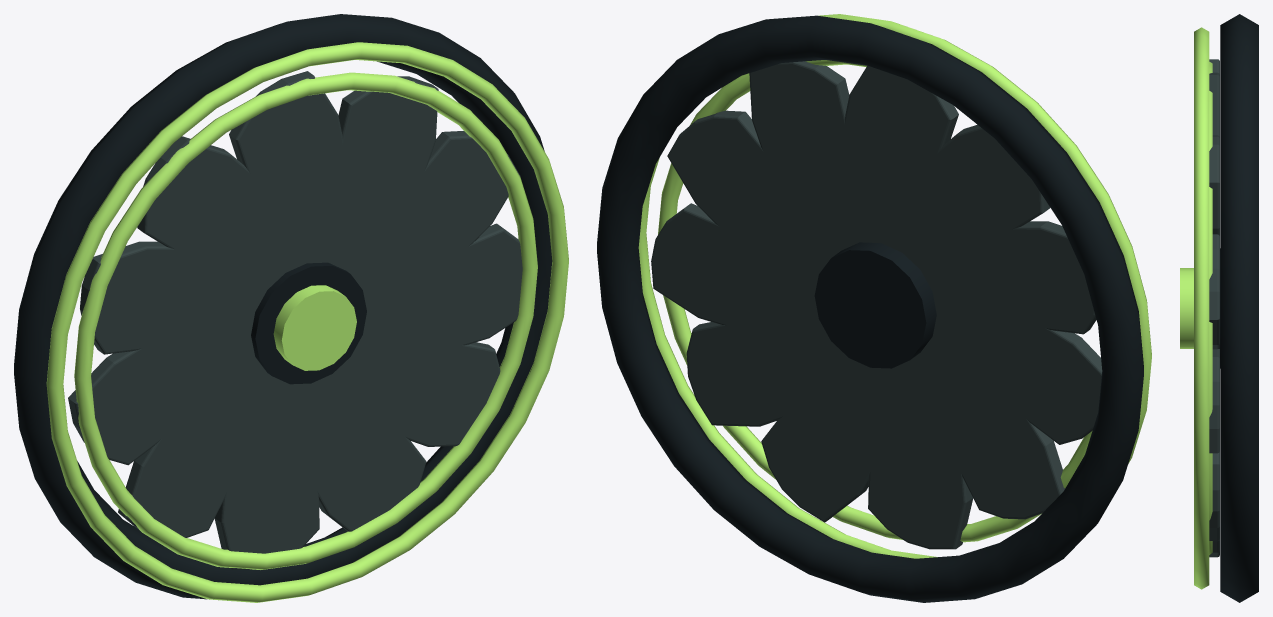
Rendered from gpu-fan-pressure.glb.
3 renders of one model, left to right at view 1: azimuth 30°, elevation 25°; view 2: azimuth 150°, elevation 25°; view 3: azimuth 270°, elevation 25°, orthographic. The views are drawn at different scales.
Visible parts, largest first — view 1: gpu-fan-rotor, gpu-fan-pressure; view 2: gpu-fan-rotor, gpu-fan-pressure; view 3: gpu-fan-pressure, gpu-fan-rotor.
Boxes of the visible parts, left/top/right/bottom form: gpu-fan-rotor: left=68, top=71, right=537, bottom=569; gpu-fan-pressure: left=14, top=14, right=568, bottom=602; gpu-fan-rotor: left=651, top=60, right=1102, bottom=549; gpu-fan-pressure: left=597, top=14, right=1151, bottom=602; gpu-fan-pressure: left=1194, top=14, right=1258, bottom=602; gpu-fan-rotor: left=1180, top=59, right=1220, bottom=557.
Bounding box in the file's own units: 0.93 × 0.93 × 0.1243.
